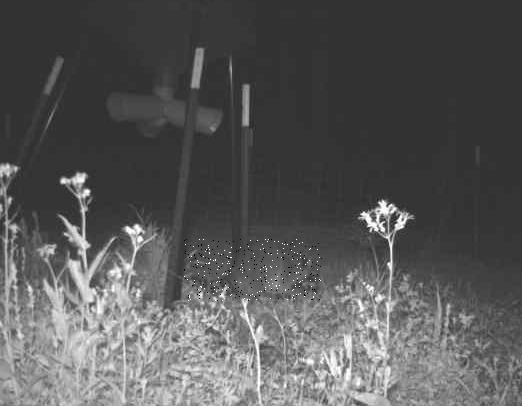Raccoon: (184, 239, 322, 301)
